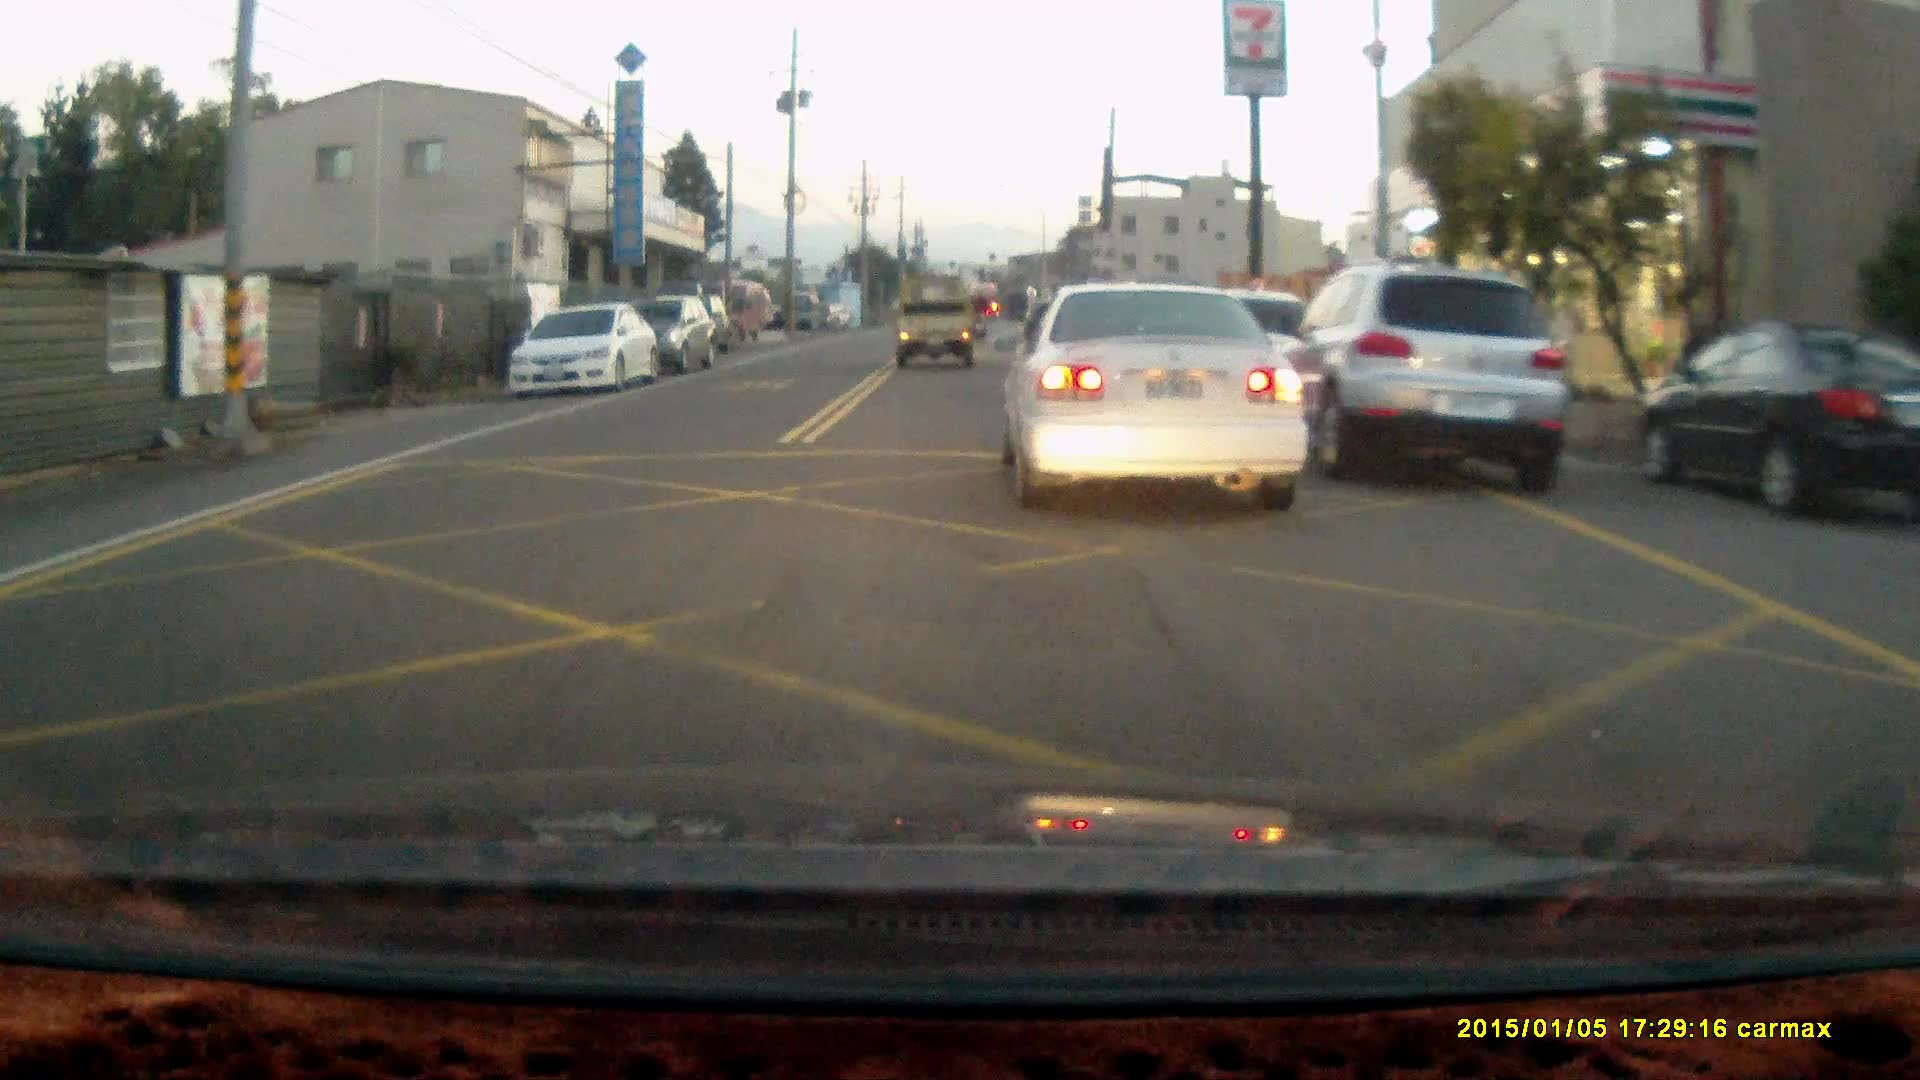rider: (965, 288, 991, 339)
vehicle: (1264, 263, 1575, 493), (997, 276, 1308, 500), (1635, 324, 1919, 515), (501, 296, 664, 399), (892, 279, 979, 368), (627, 295, 711, 374)
